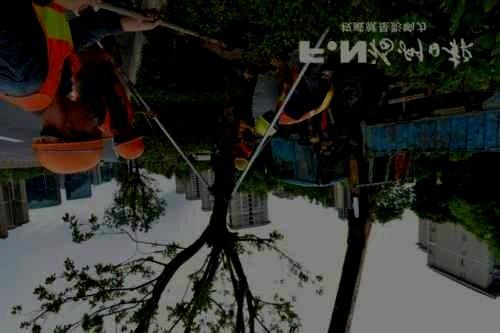helmet: (30, 103, 112, 174), (111, 122, 145, 160), (256, 110, 279, 137), (234, 150, 249, 171)
